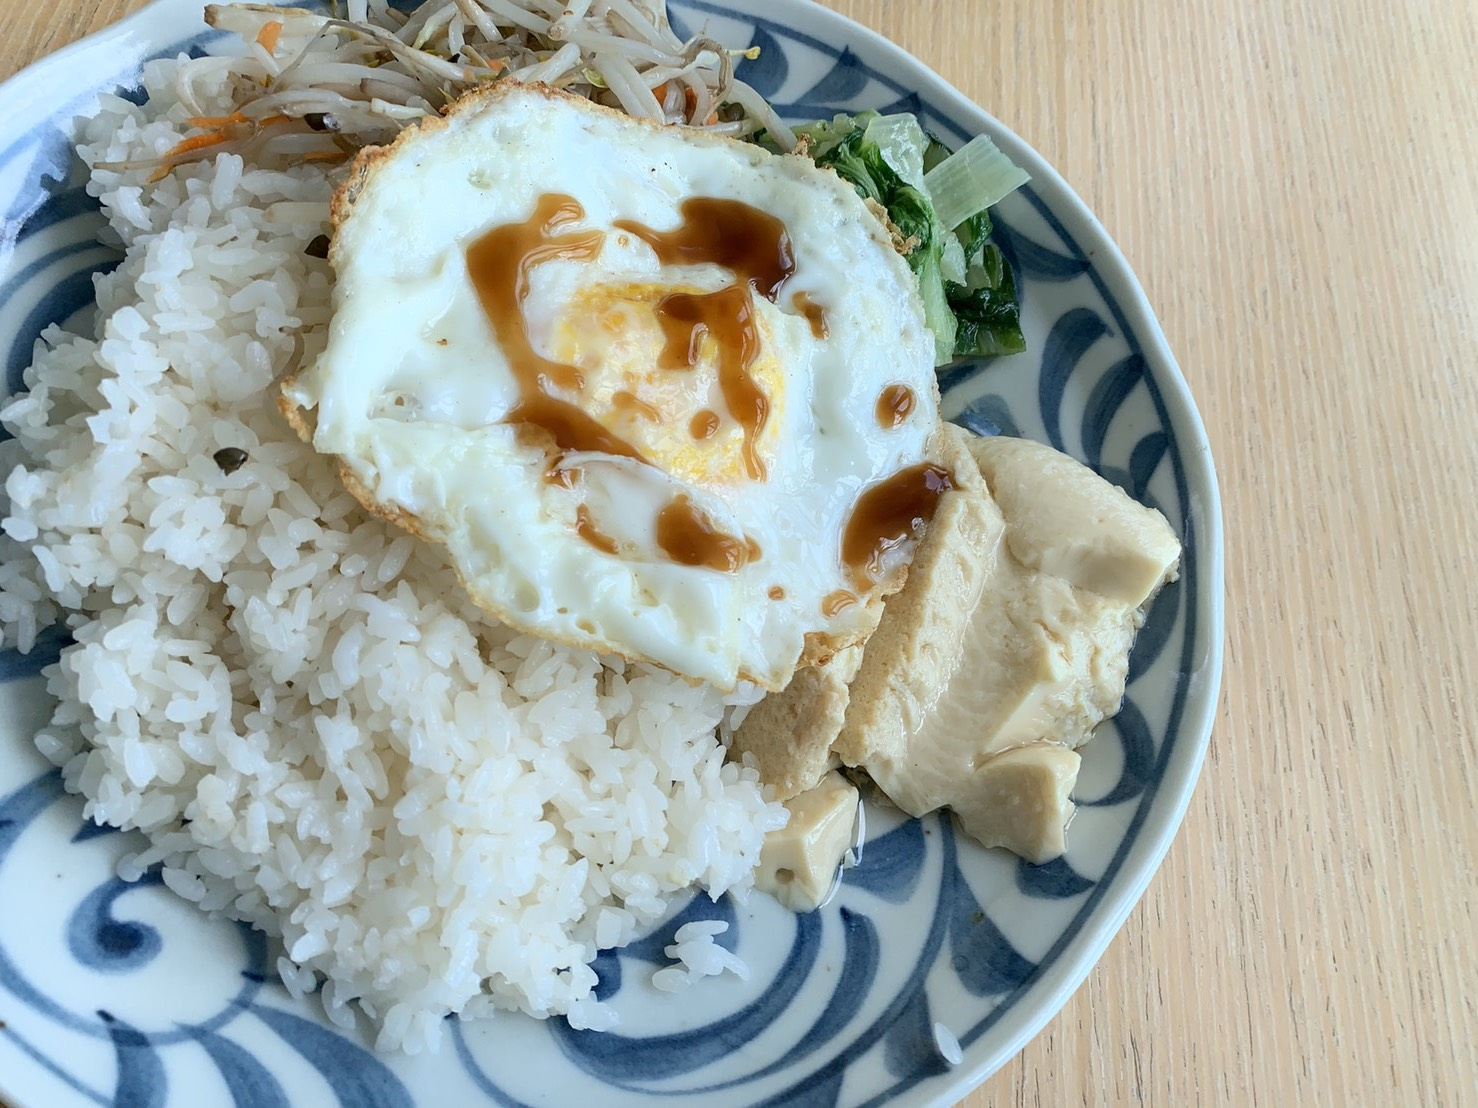fried_eggs: (370, 111, 891, 616)
mung_bean_sprouts: (182, 1, 759, 128)
rice: (40, 532, 665, 959)
